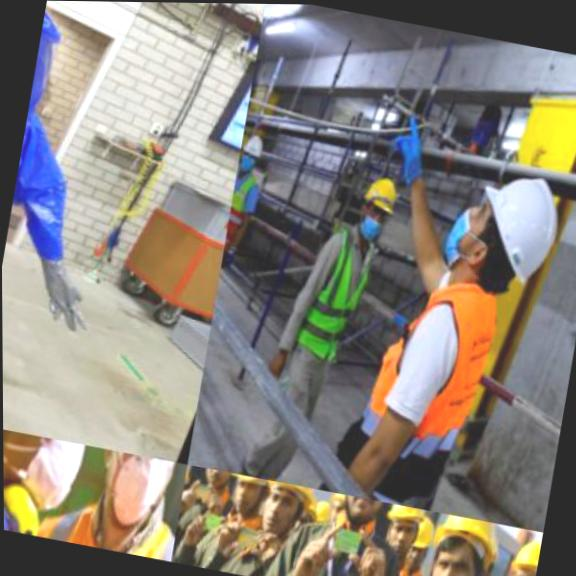safety_vest: (309, 246, 531, 521), (210, 487, 421, 576), (3, 459, 180, 562), (283, 222, 393, 375), (3, 453, 94, 544), (169, 474, 239, 572), (220, 171, 266, 270)
